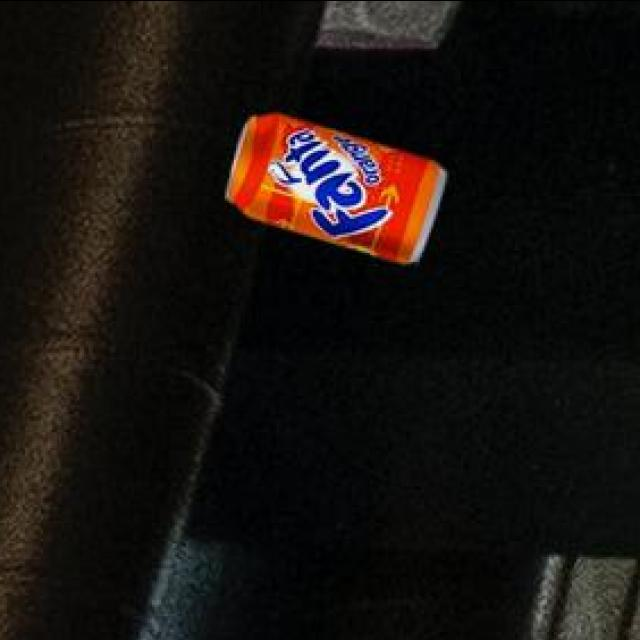logam: (224, 117, 444, 267)
